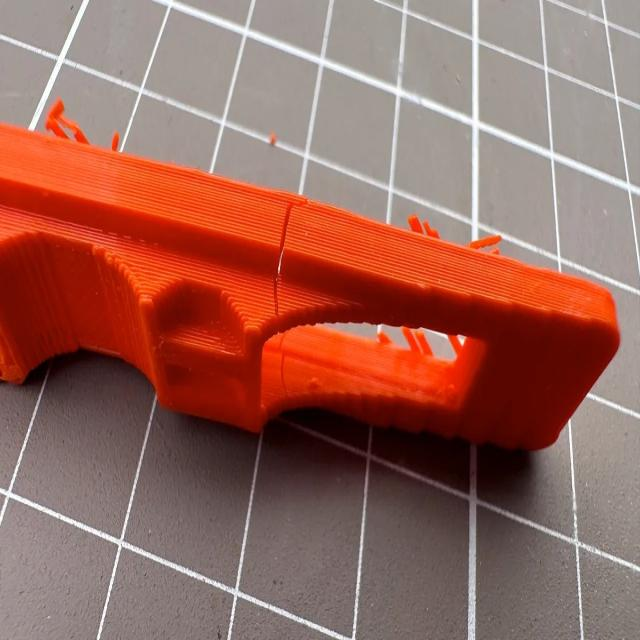Warping: (267, 207, 293, 392)
